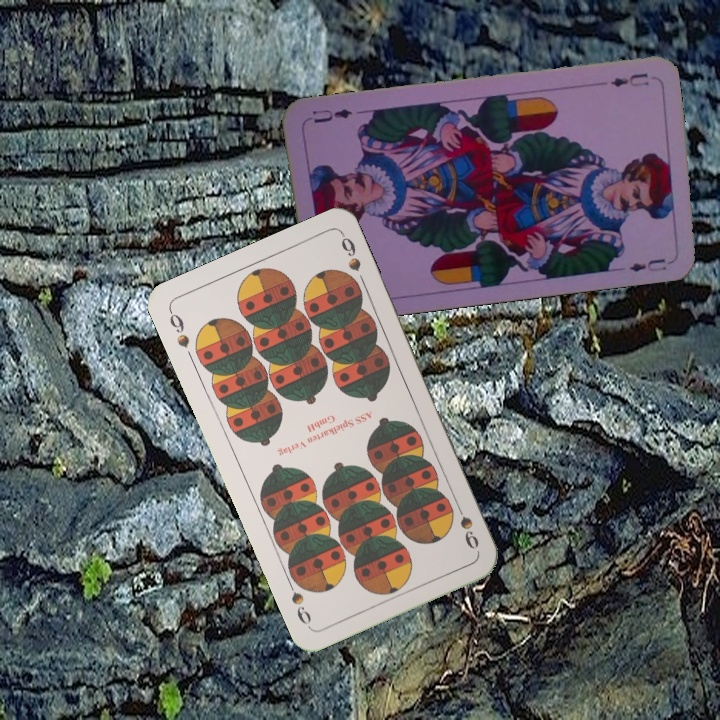EU: (606, 68, 652, 90)
S9: (451, 497, 482, 552), (165, 306, 192, 351)
